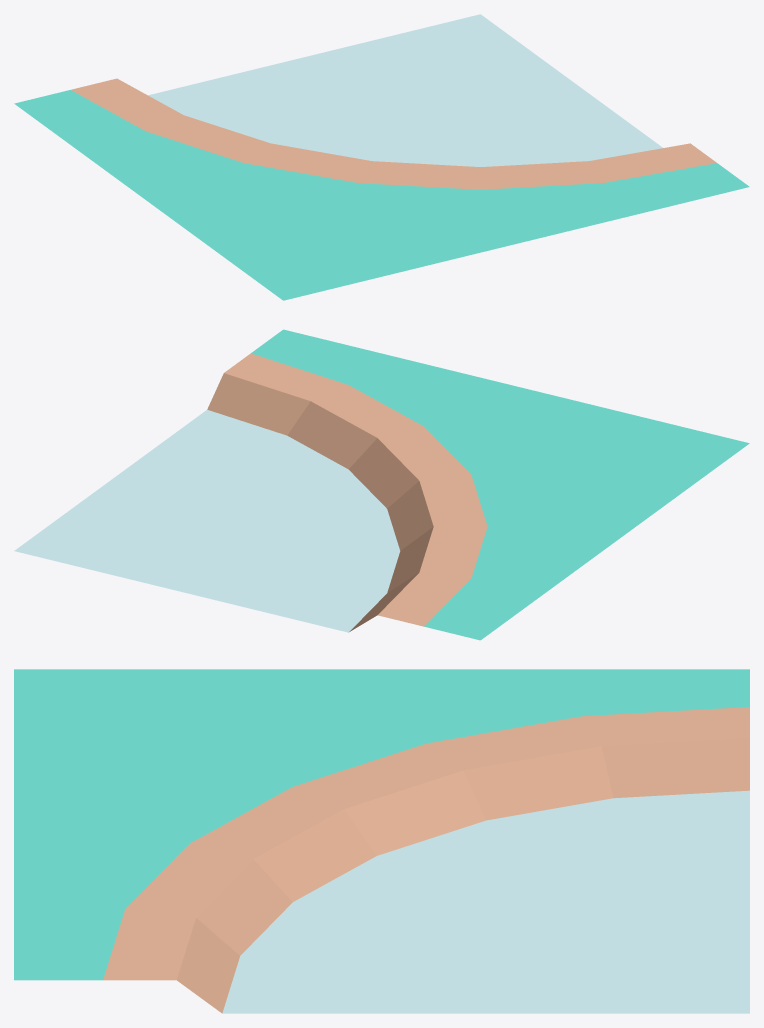
The model's file is RiverCorner.dae.
3 views of the same model, one above another, from view 1: azimuth 30°, elevation 25°; view 2: azimuth 150°, elevation 25°; view 3: azimuth 270°, elevation 25° (orthographic). The views are drawn at different scales.
Parts seen in each view (by area): view 1: ground_riverCorner, ground_riverCorner.001; view 2: ground_riverCorner, ground_riverCorner.001; view 3: ground_riverCorner, ground_riverCorner.001.
Boxes of the visible parts, box(x1,y1,x2,y2) form: ground_riverCorner: box(71, 14, 716, 189); ground_riverCorner.001: box(14, 90, 749, 300); ground_riverCorner: box(14, 353, 487, 632); ground_riverCorner.001: box(251, 329, 749, 640); ground_riverCorner: box(103, 707, 749, 1013); ground_riverCorner.001: box(14, 669, 749, 980).
Size of what is drawn, in the model's own units: 1 by 1 by 0.05.
